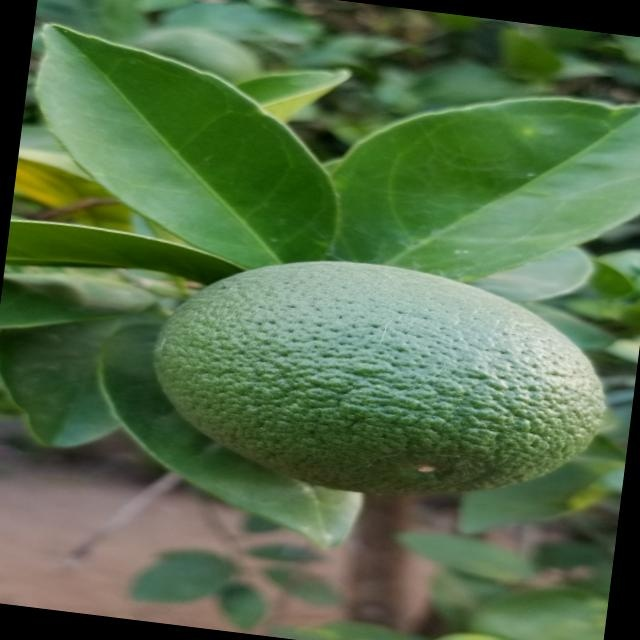agrume: (130, 233, 630, 531)
